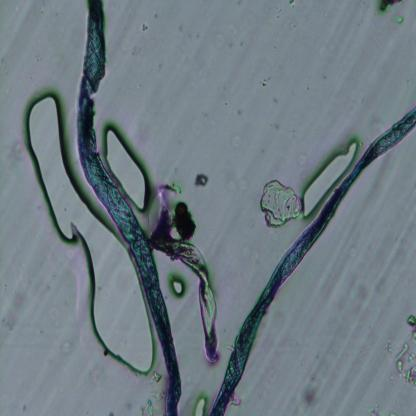Air bubble: (27, 94, 154, 375), (103, 130, 154, 218), (300, 140, 357, 218), (167, 274, 187, 301), (192, 394, 207, 415)
Background material: (258, 177, 304, 228), (301, 348, 337, 405), (395, 312, 416, 388), (140, 370, 168, 416), (192, 164, 210, 190), (377, 0, 403, 12), (260, 72, 272, 88), (138, 20, 148, 32)
Cellulose filter fibre: (149, 194, 221, 365)
Cotton: (210, 104, 416, 416), (76, 1, 184, 415)
